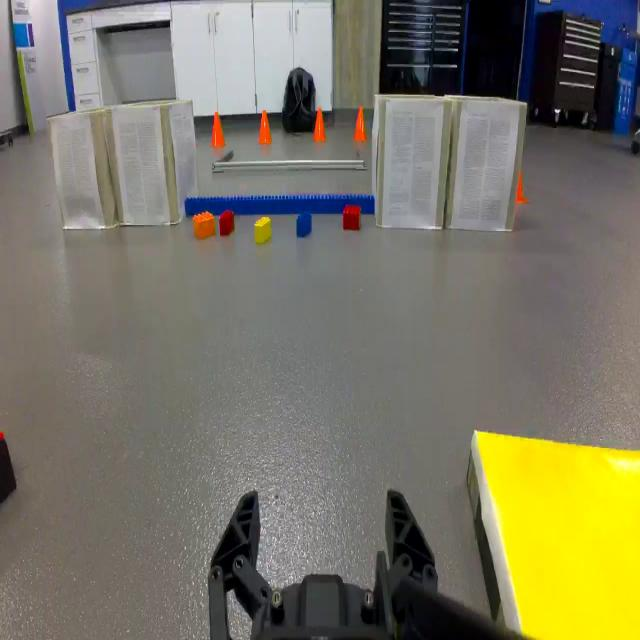block: (255, 216, 271, 245)
blue: (297, 211, 312, 238)
cone: (210, 112, 226, 148), (352, 106, 368, 142), (312, 107, 327, 142), (258, 110, 272, 146)
metal barrier: (212, 149, 368, 173)
orange: (193, 211, 214, 240)
red goal: (342, 204, 360, 230), (219, 210, 234, 236)
river: (185, 194, 374, 216)
storage cube: (107, 94, 196, 225), (447, 90, 528, 232), (372, 94, 452, 231), (46, 110, 117, 232)
yellow goal: (466, 429, 640, 640)
